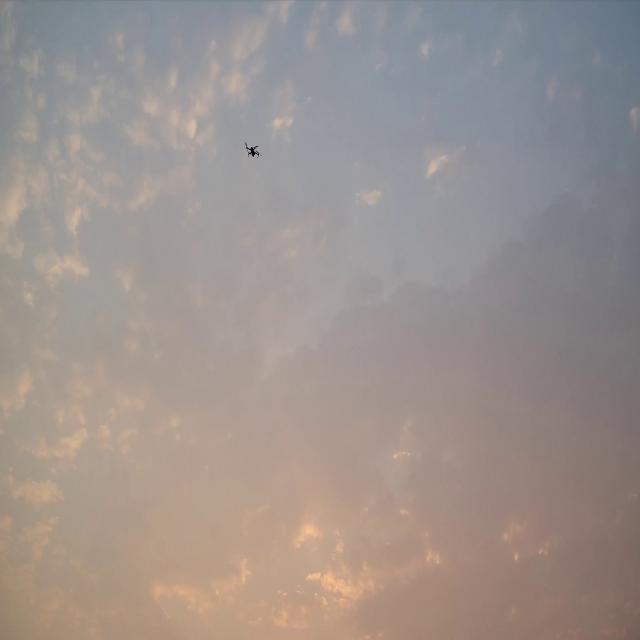drone: (244, 142, 262, 158)
